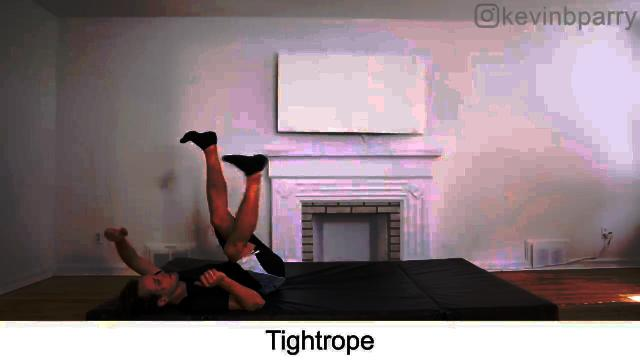jatuh: (93, 114, 294, 316)
